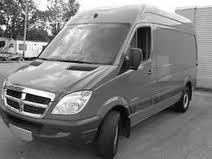car: (3, 6, 202, 159)
